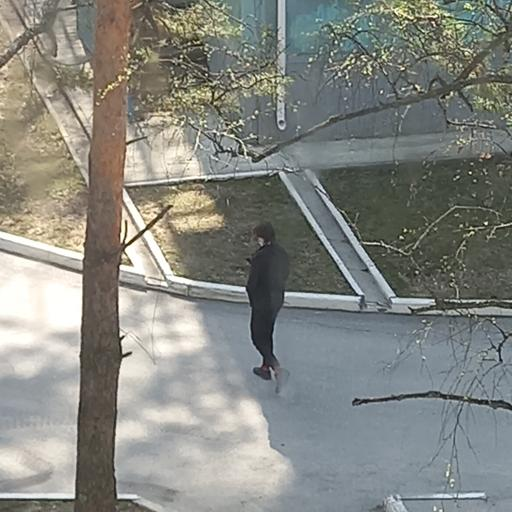Humans: (237, 206, 303, 410)
